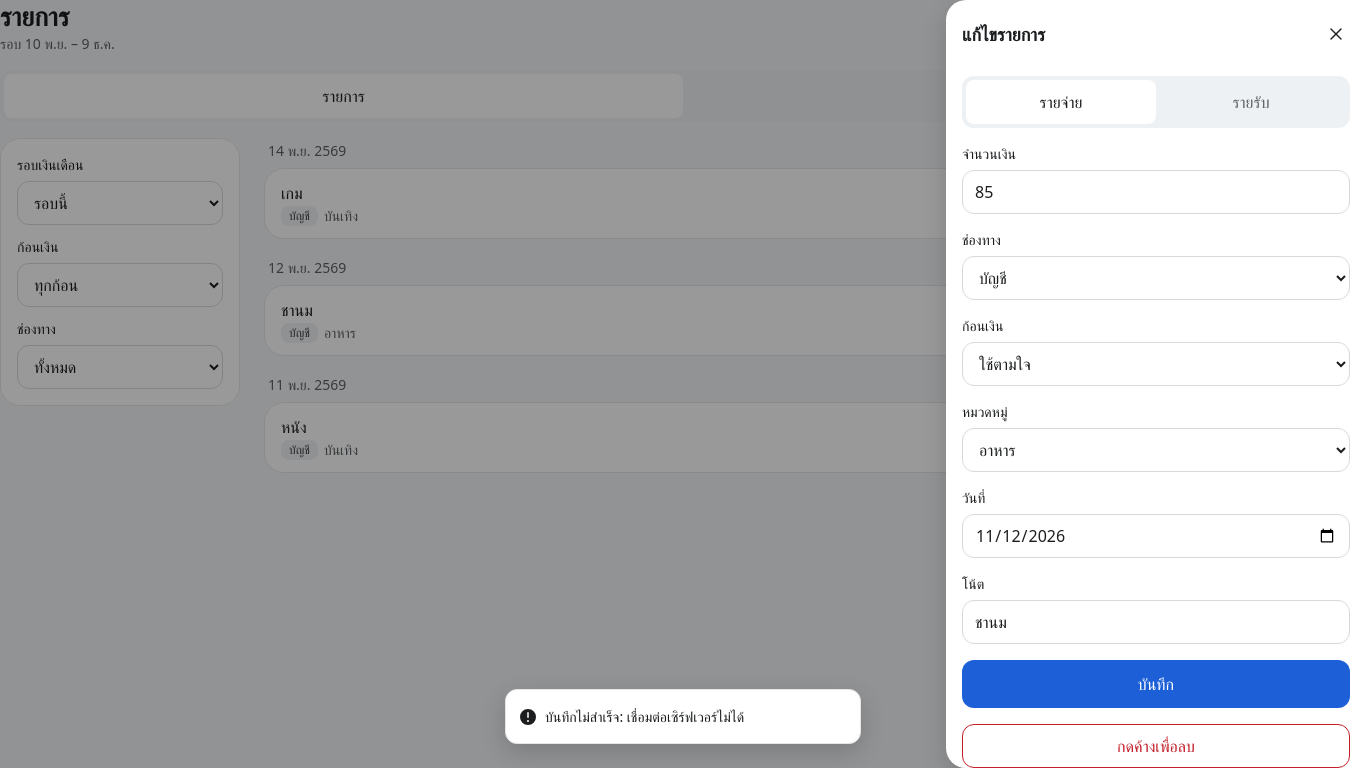
Test case: <EntriesPage> › shows error toasts with repo error messages when save, update, or delete fails
Earlier steps of the test are not shown.
Replace the text in the field labelled "โน้ต" with "ชานมใหม่" at (1156, 622), box [962,600,1350,644]
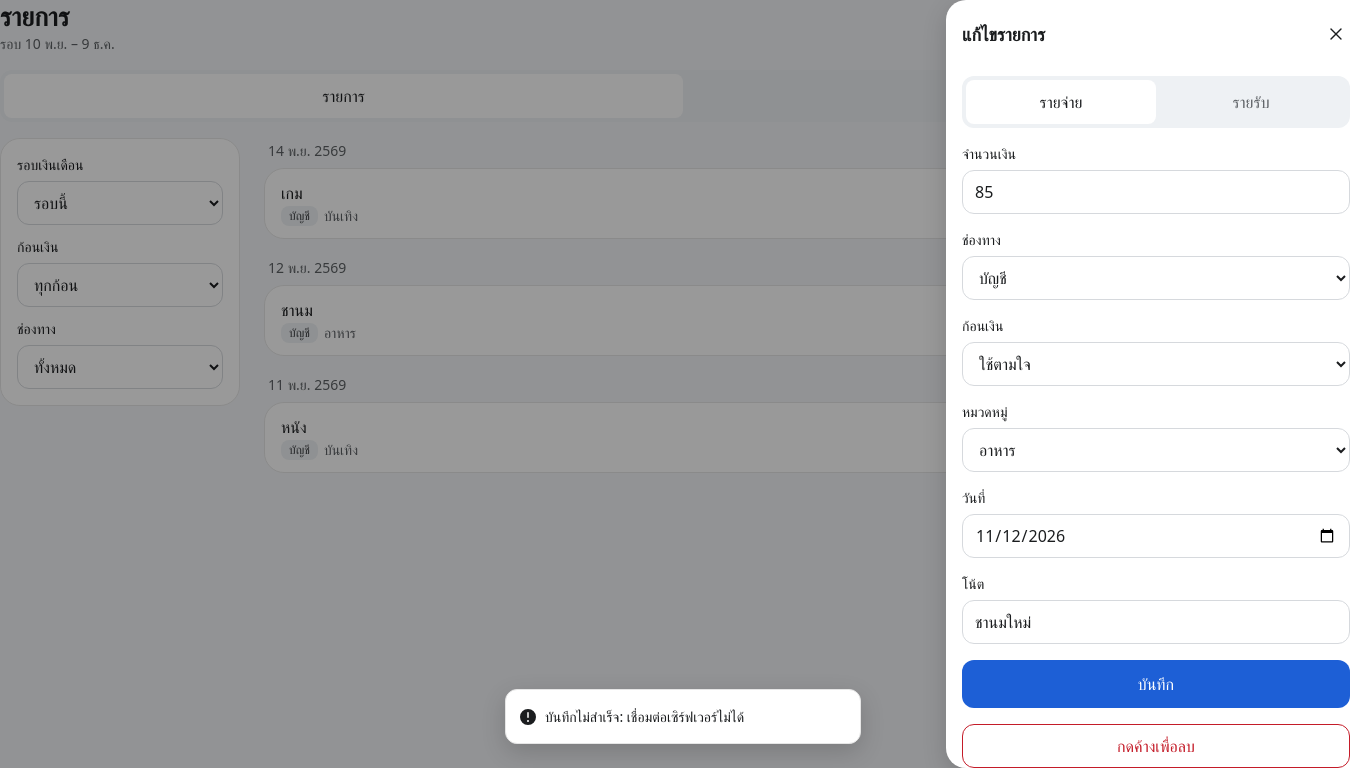
Click the button "บันทึก" at (1156, 684), box [962,660,1350,708]
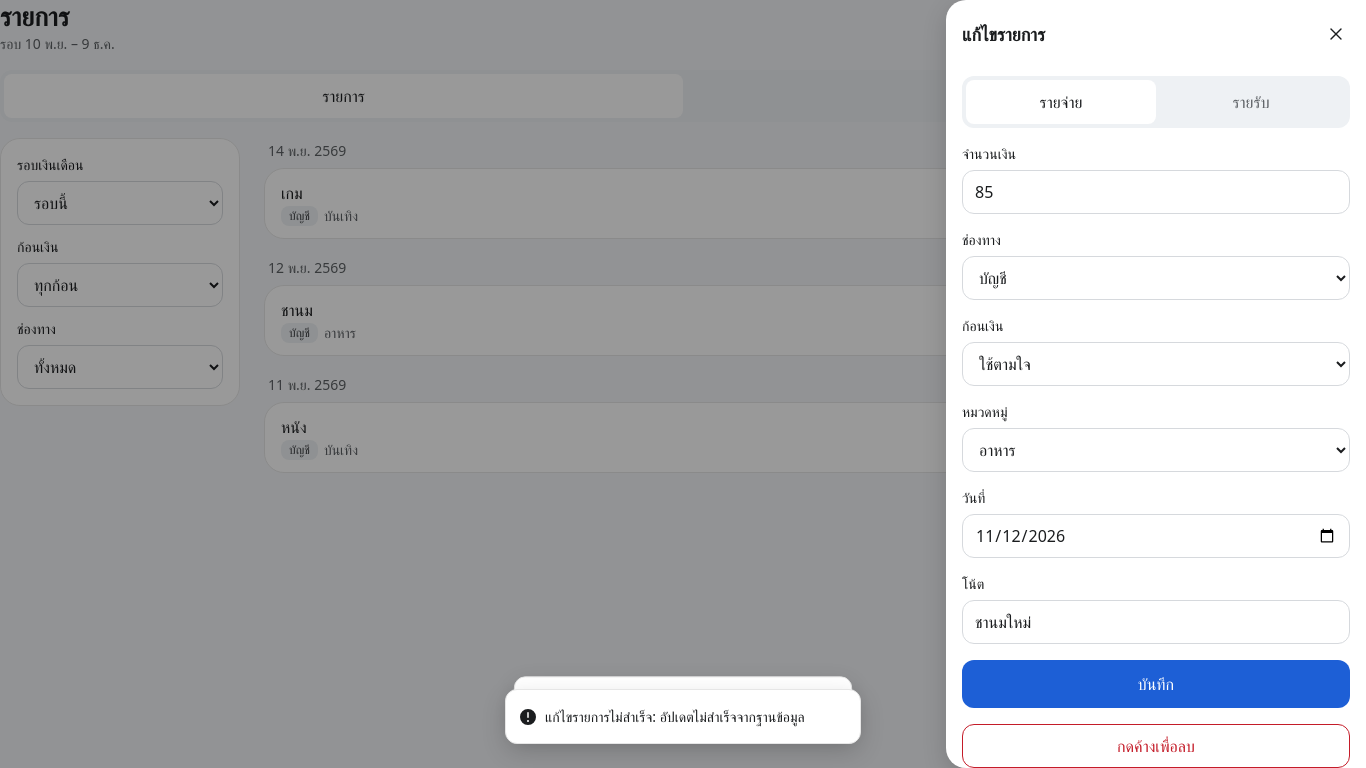
Now the dialog is shown, box [946,0,1365,767]
Now the text "แก้ไขรายการไม่สำเร็จ: อัปเดตไม่สำเร็จจากฐานข้อมูล" is shown, box [545,706,805,727]
Press Enter in the button "กดค้างเพื่อลบ กดค้างเพื่อลบ", box [962,724,1350,767]
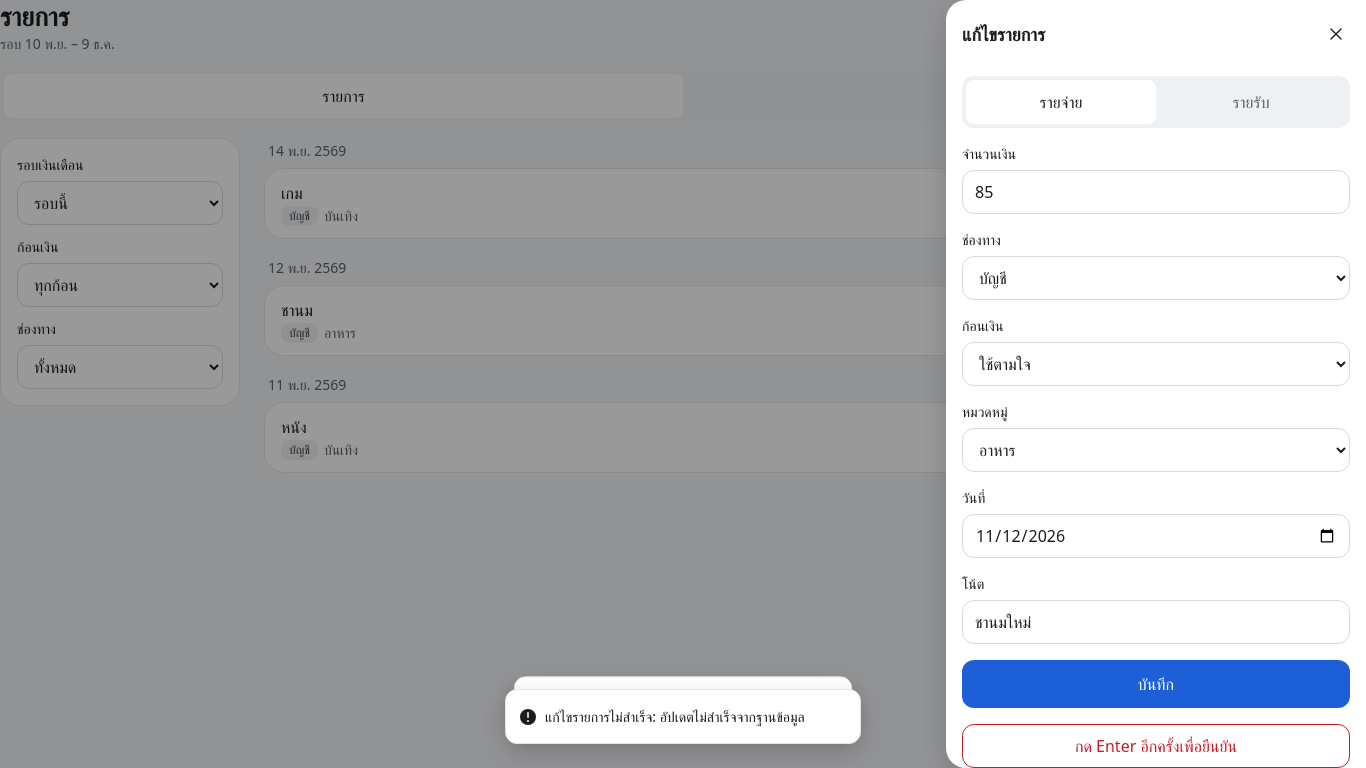
Press Enter in the button named "กดค้างเพื่อลบ", box [962,724,1350,767]
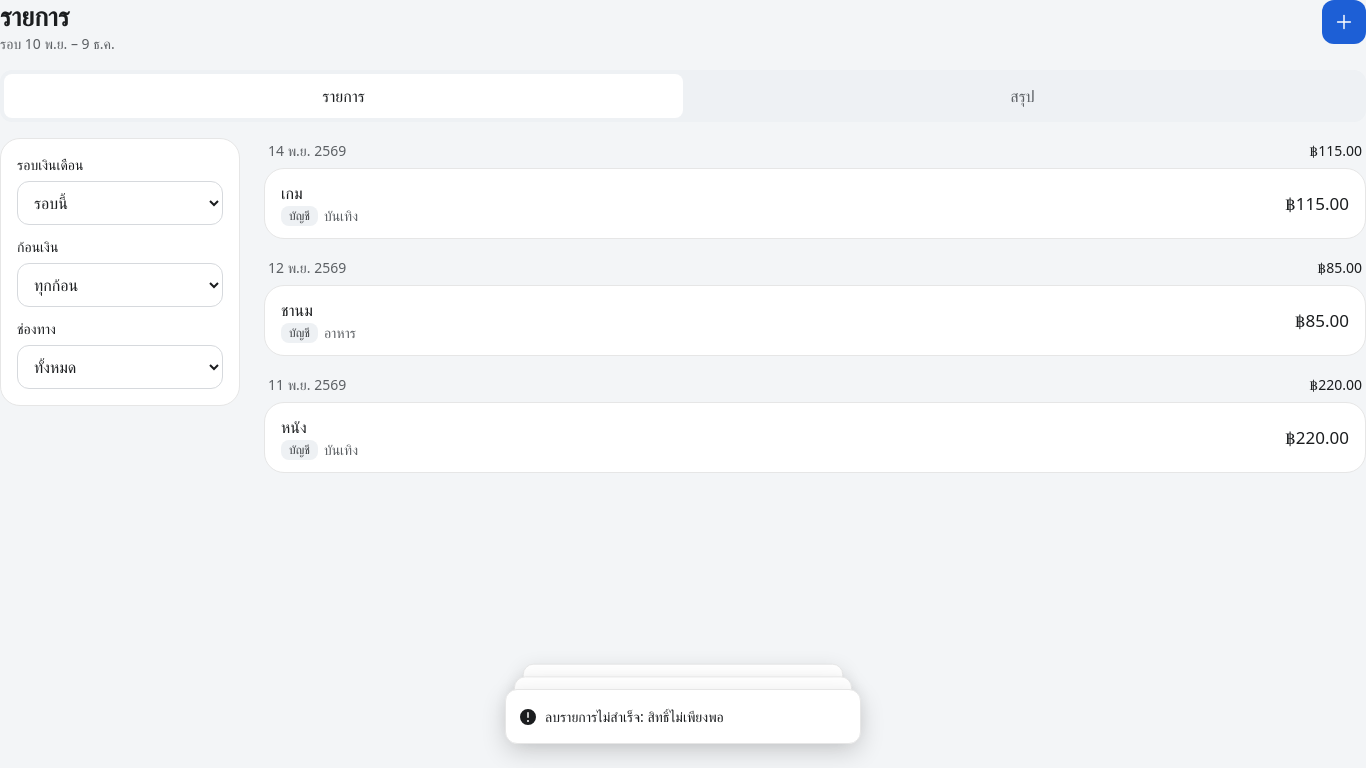
Expected: the text "ชานม" is shown, [281,299,313,321]
Now the text "ลบรายการไม่สำเร็จ: สิทธิ์ไม่เพียงพอ" is shown, box [545,706,724,727]
